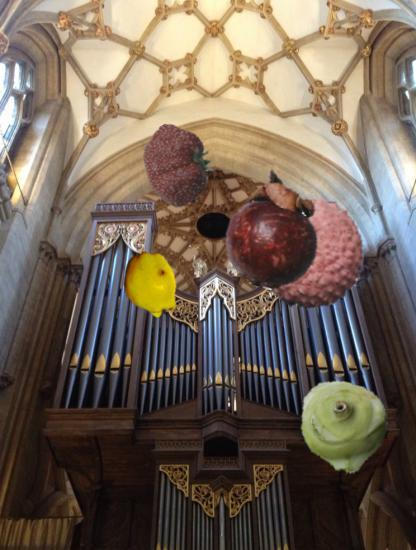Kohlrabi: (296, 381, 390, 475)
Lychee: (250, 193, 367, 310)
Mangostan: (217, 172, 334, 289)
Quince: (116, 251, 184, 319)
Strawberry: (136, 123, 219, 206)
